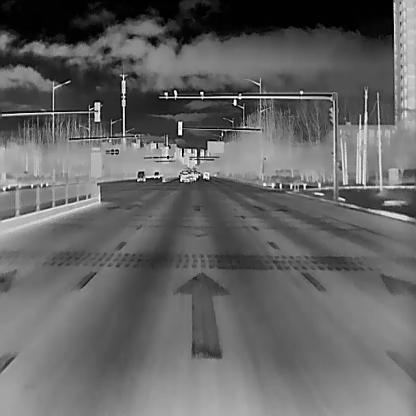car: (178, 170, 189, 181), (136, 170, 144, 180), (189, 170, 196, 180), (202, 170, 209, 179), (153, 170, 159, 177)
